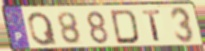3: (170, 5, 196, 46)
8: (84, 9, 111, 46), (56, 12, 83, 46)
D: (109, 9, 141, 46)
Q: (27, 11, 59, 47)
T: (141, 9, 163, 44)
